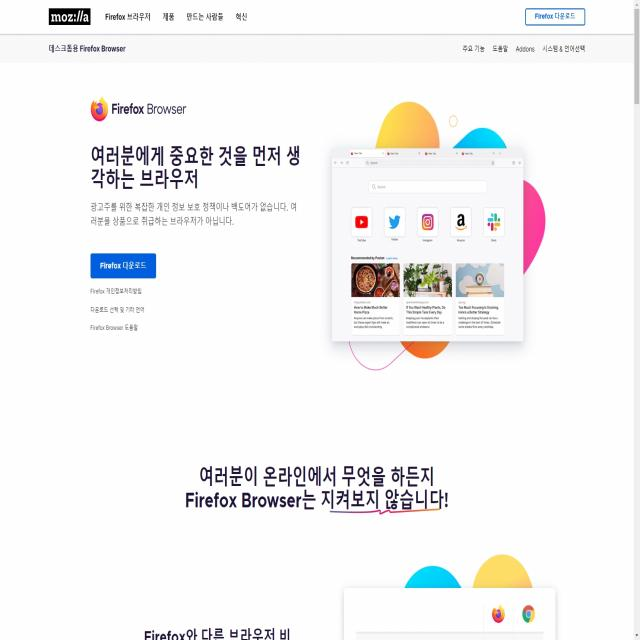menu-bar: (100, 3, 256, 29), (459, 34, 590, 61)
